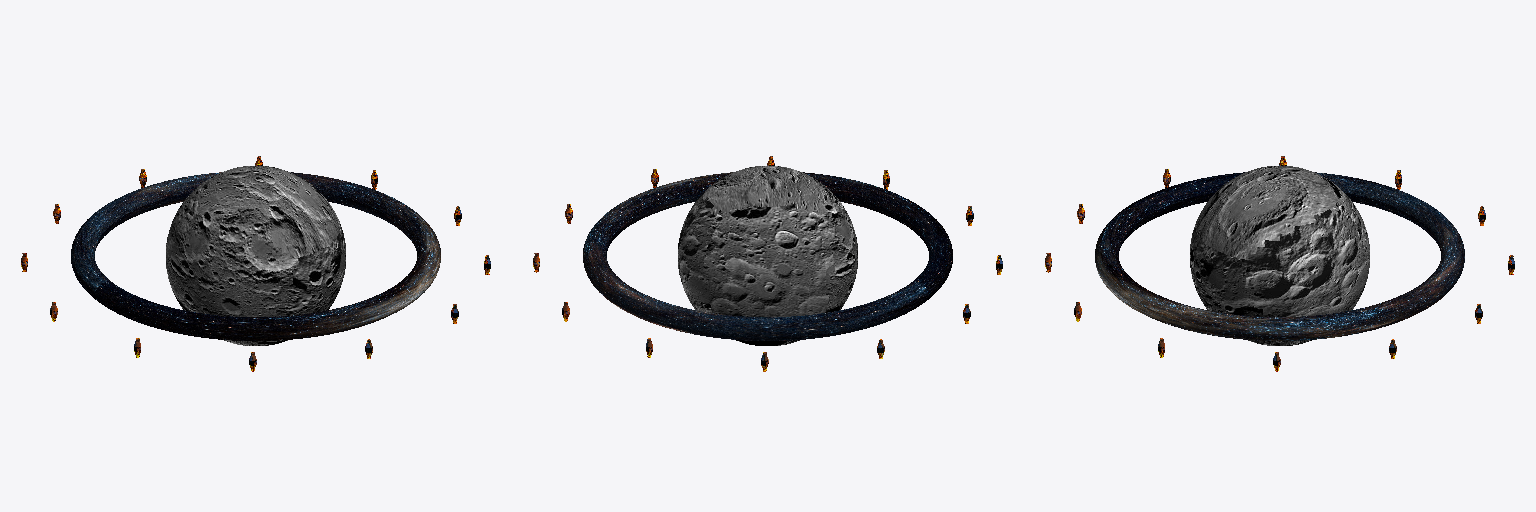
3 renders of one model, left to right at view 1: azimuth 30°, elevation 25°; view 2: azimuth 150°, elevation 25°; view 3: azimuth 270°, elevation 25°, orthographic.
Visible parts, largest first — view 1: Sphere.001, Torus.001, Cylinder.002; view 2: Sphere.001, Torus.001, Cylinder.002; view 3: Sphere.001, Torus.001, Cylinder.002.
Boxes of the visible parts, x1=… form: Sphere.001: x1=166, y1=166, x2=345, y2=345; Torus.001: x1=71, y1=172, x2=440, y2=340; Cylinder.002: x1=21, y1=156, x2=490, y2=371; Sphere.001: x1=678, y1=166, x2=857, y2=345; Torus.001: x1=583, y1=172, x2=952, y2=340; Cylinder.002: x1=533, y1=156, x2=1002, y2=371; Sphere.001: x1=1190, y1=166, x2=1369, y2=345; Torus.001: x1=1095, y1=172, x2=1464, y2=340; Cylinder.002: x1=1045, y1=156, x2=1514, y2=371.
Bounding box in the file's own units: 9.78 × 3.76 × 9.78.
Materials: 3 (3 with a texture image).